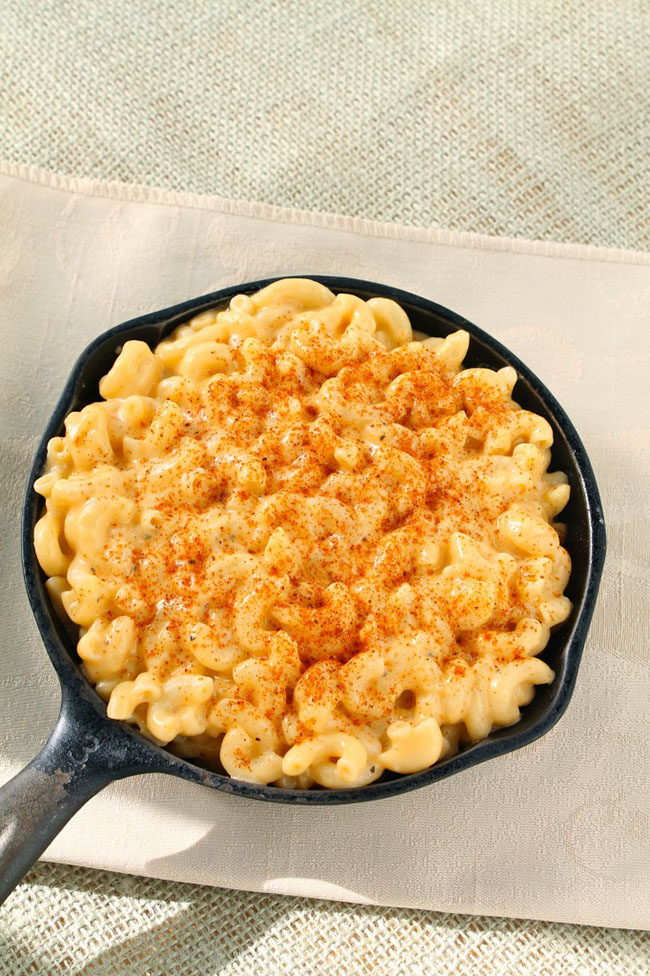macncheese: (26, 263, 572, 797)
